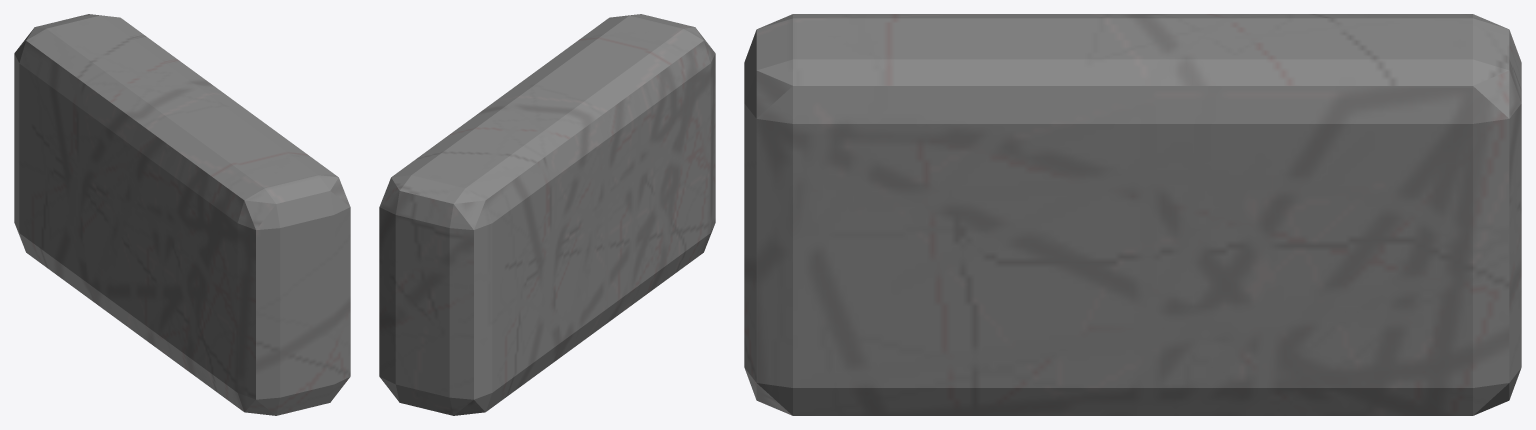
The model's file is buildable_stone_wall.obj.
3 renders of one model, left to right at view 1: azimuth 30°, elevation 25°; view 2: azimuth 150°, elevation 25°; view 3: azimuth 270°, elevation 25°, orthographic. The views are drawn at different scales.
Parts seen in each view (by area): view 1: mesh; view 2: mesh; view 3: mesh.
Part boxes in pixels (<box>): mesh: <box>14,14,350,415</box>; mesh: <box>379,14,715,415</box>; mesh: <box>744,14,1521,415</box>.
Size of the model in its own units: 1 by 2 by 4.
Materials: 1 (1 with a texture image).
